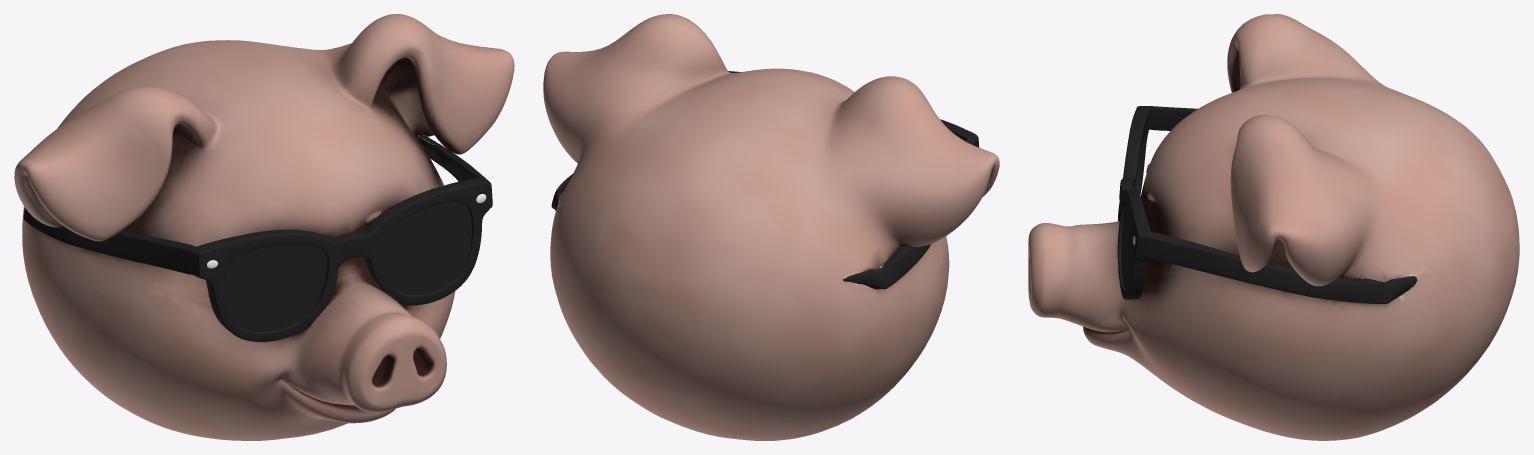
Rendered from slypork-pig-medium.glb.
3 renders of one model, left to right at view 1: azimuth 30°, elevation 25°; view 2: azimuth 150°, elevation 25°; view 3: azimuth 270°, elevation 25°, orthographic. The views are drawn at different scales.
Parts seen in each view (by area): view 1: Pig, Pig.001; view 2: Pig; view 3: Pig, Pig.001.
Boxes of the visible parts, x1,y1,x2,y2 form: Pig: [14, 14, 514, 440]; Pig.001: [224, 202, 471, 331]; Pig: [543, 14, 999, 440]; Pig: [1028, 14, 1519, 440]; Pig.001: [1121, 201, 1131, 289].
Size of the model in its own units: 1.9 by 1.47 by 1.84.
